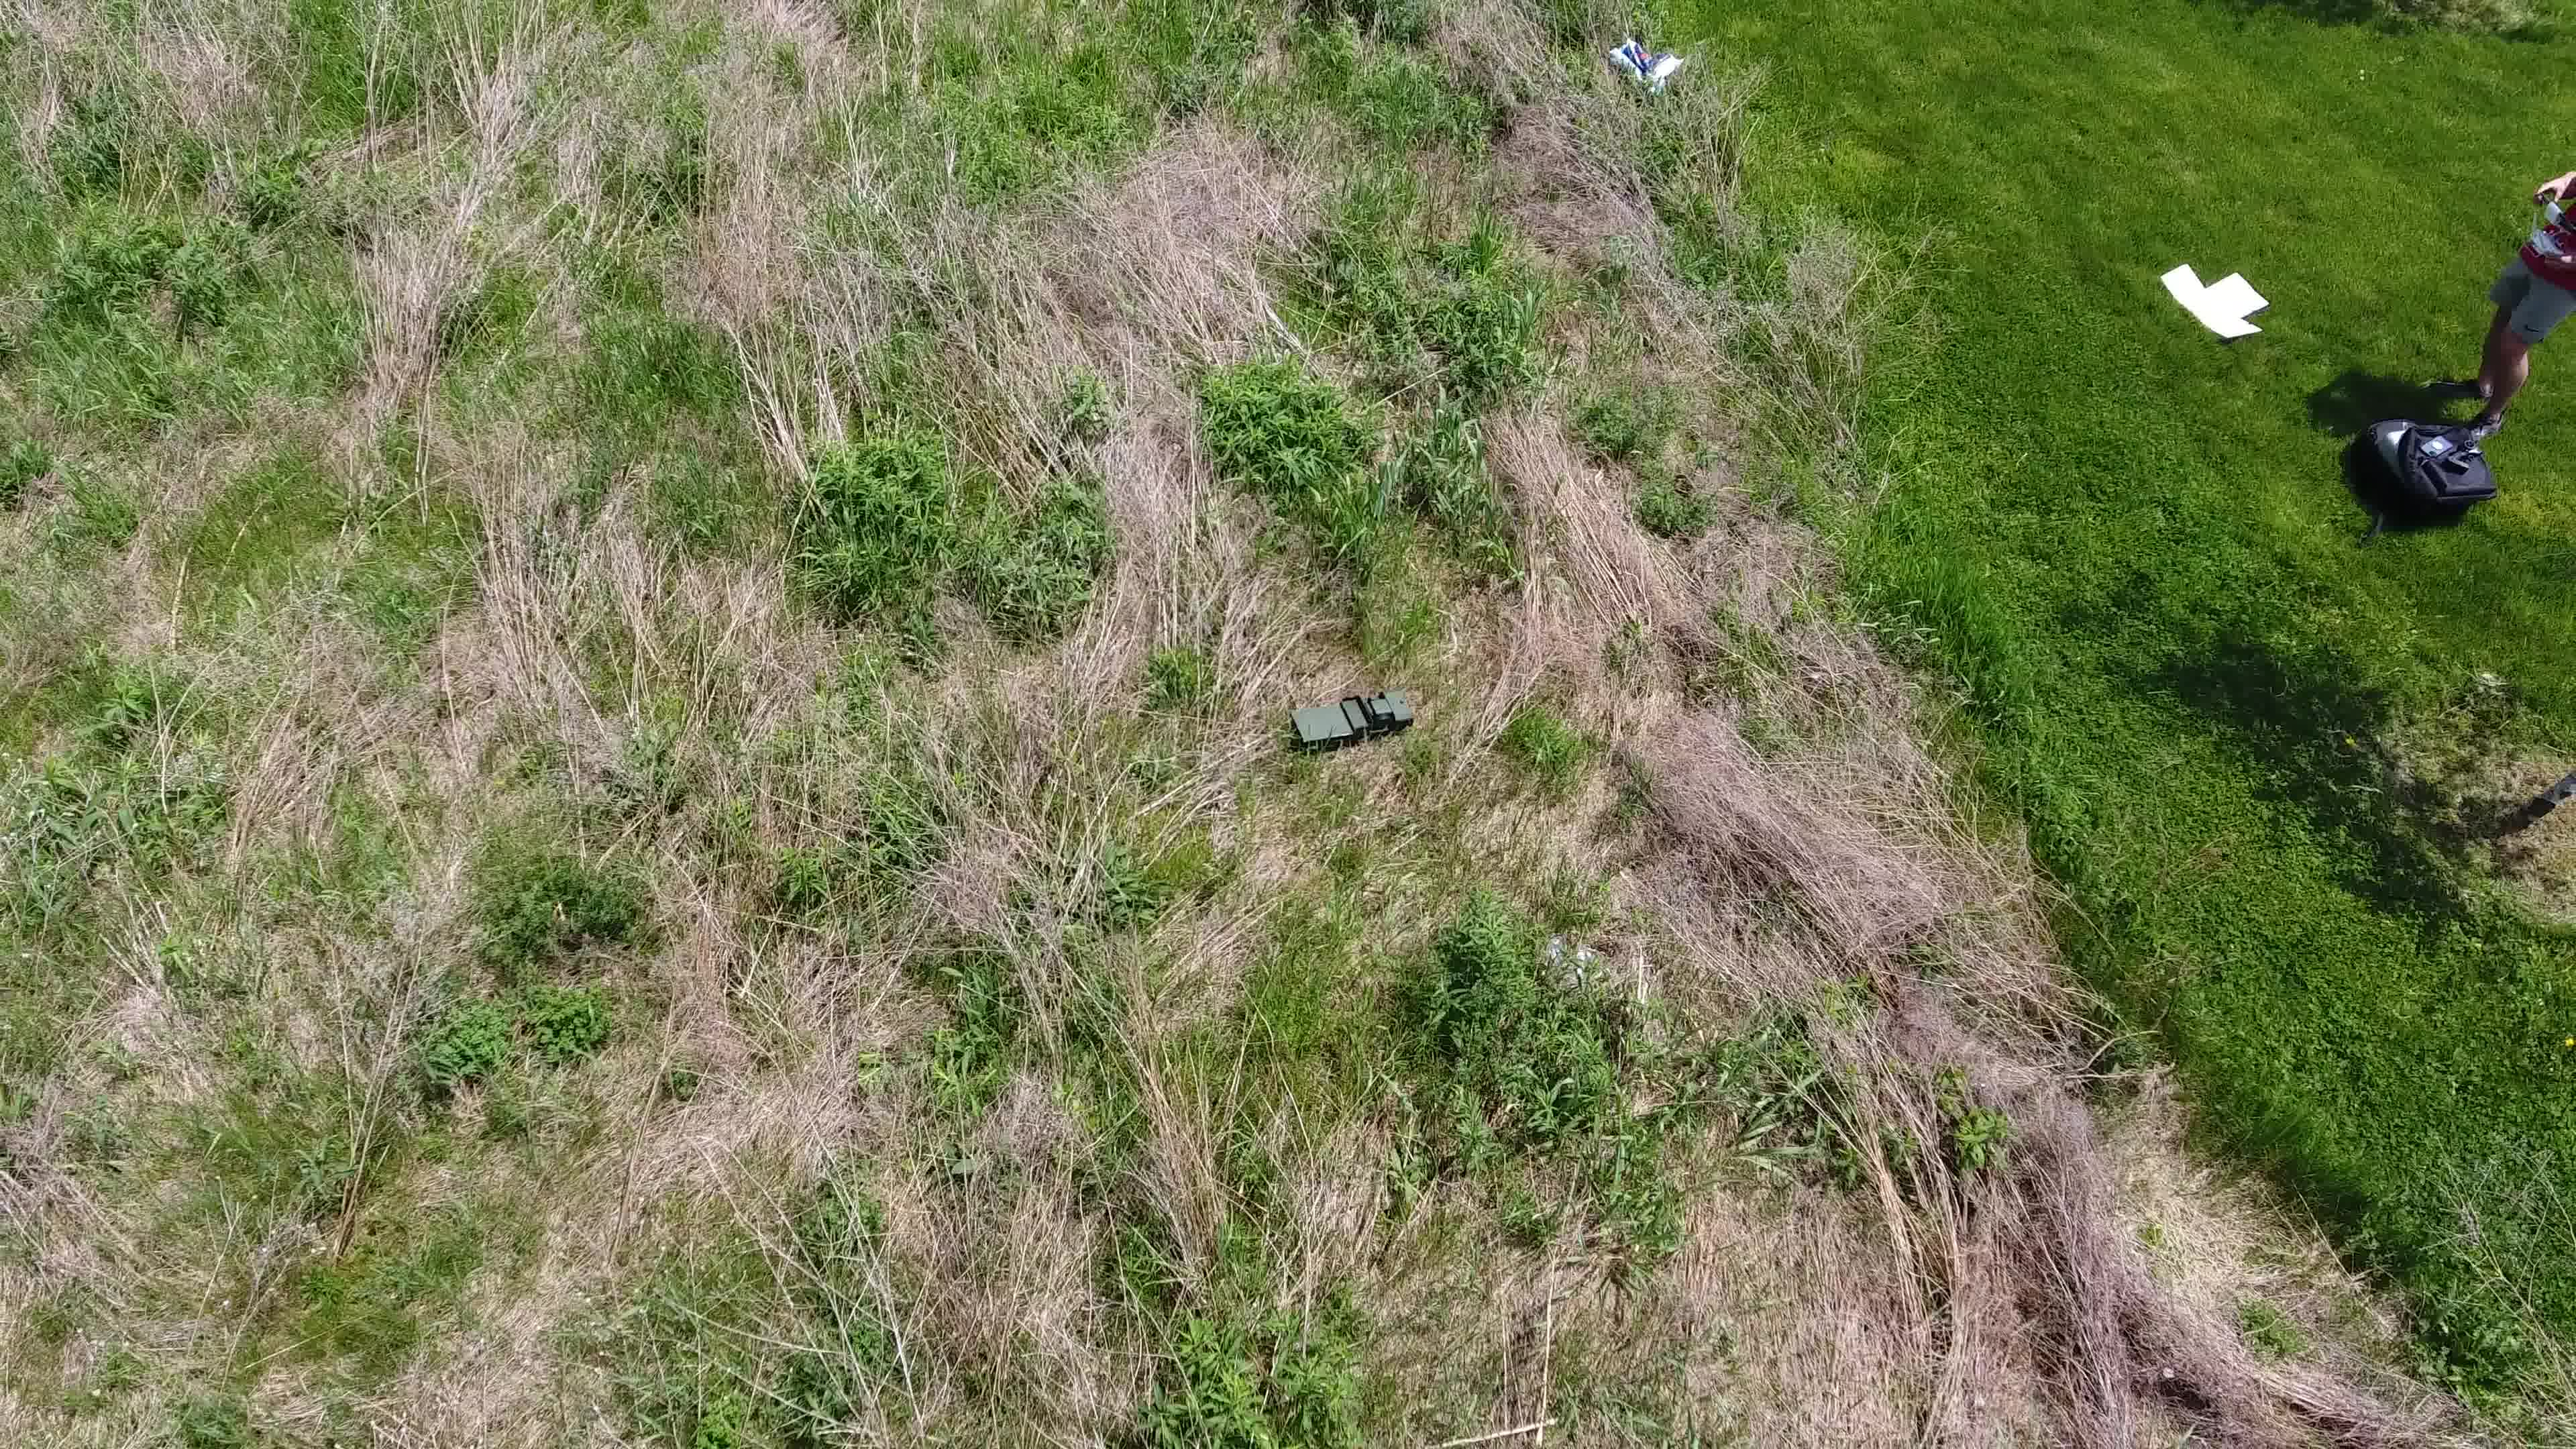transporter9: (1283, 683, 1417, 750)
